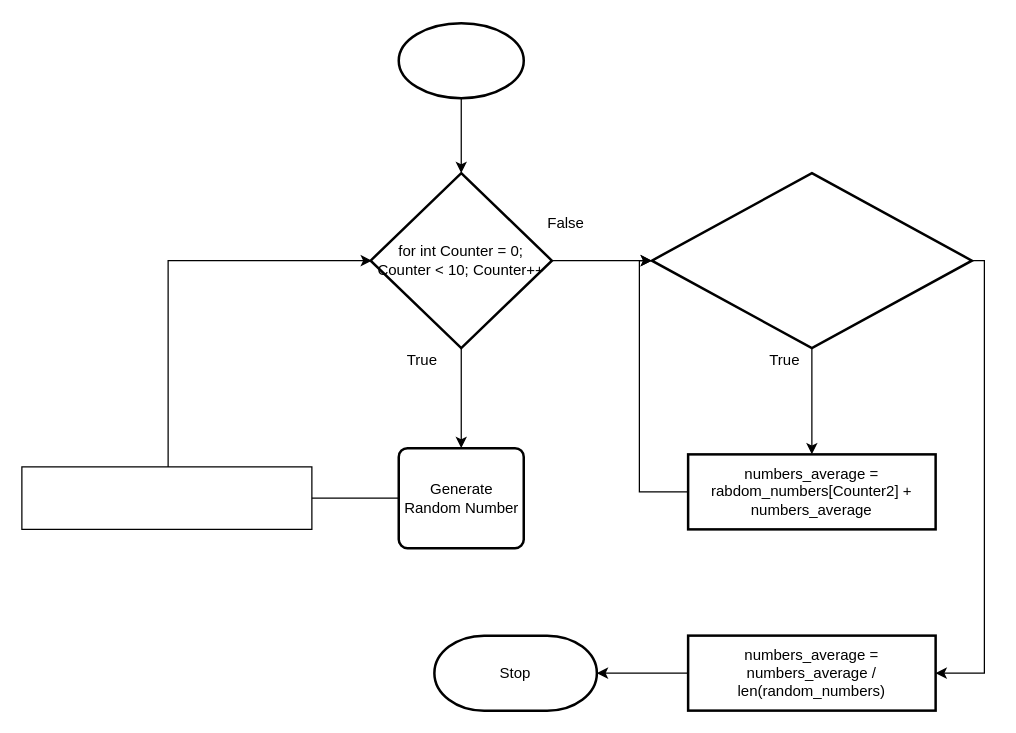
This 1016x733 diagram has some shape labels left out. The shapes that lost their labels are listed below. From the top down, each one's box as (x1, y1, x2, y2) in pixels, then its label:
(397, 21, 524, 99): Start
(650, 171, 972, 349): for int Counter2 = 0; Counter2 < len(random_numbers); Counter2++
(21, 466, 312, 529): student_marks.append(a_single_mark)
